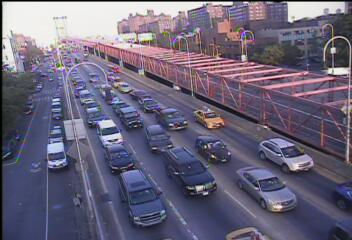neg: (36, 82, 60, 114), (267, 71, 289, 100), (75, 14, 96, 42), (133, 158, 154, 185), (213, 156, 233, 183), (167, 159, 186, 183), (79, 157, 97, 181), (211, 77, 229, 100), (189, 24, 205, 46), (254, 168, 270, 190), (310, 94, 326, 116), (98, 60, 114, 80), (137, 21, 152, 41), (52, 125, 67, 145), (288, 142, 303, 162), (127, 93, 141, 112), (40, 37, 53, 55), (178, 88, 189, 102)
